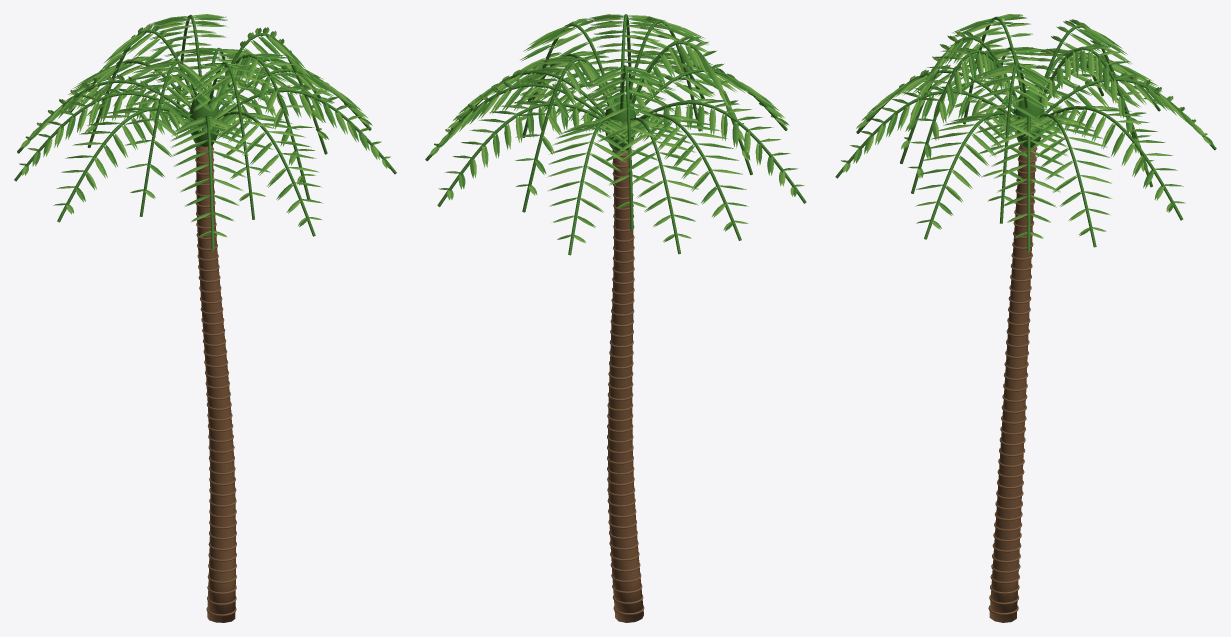
The model's file is palm.glb.
3 renders of one model, left to right at view 1: azimuth 30°, elevation 25°; view 2: azimuth 150°, elevation 25°; view 3: azimuth 270°, elevation 25°, orthographic. The views are drawn at different scales.
Parts seen in each view (by area): view 1: Palm trunk, Palm leaflets 2, Palm leaflets 0, Palm leaflets 1, Arching frond rachis; view 2: Palm trunk, Palm leaflets 2, Palm leaflets 1, Palm leaflets 0, Arching frond rachis; view 3: Palm trunk, Palm leaflets 1, Palm leaflets 2, Palm leaflets 0, Arching frond rachis.
Boxes of the visible parts, x1,y1,x2,y2 form: Palm trunk: (195, 145, 236, 622); Palm leaflets 2: (20, 14, 390, 237); Palm leaflets 0: (19, 17, 389, 237); Palm leaflets 1: (22, 15, 387, 236); Arching frond rachis: (14, 14, 396, 250); Palm trunk: (607, 150, 644, 622); Palm leaflets 2: (429, 15, 804, 243); Palm leaflets 1: (432, 14, 800, 241); Palm leaflets 0: (434, 15, 796, 242); Arching frond rachis: (425, 14, 806, 255); Palm trunk: (988, 144, 1037, 622); Palm leaflets 1: (845, 15, 1203, 237); Palm leaflets 2: (843, 14, 1210, 238); Palm leaflets 0: (841, 16, 1213, 238); Arching frond rachis: (835, 16, 1216, 252).
Size of the model in its own units: 5.39 by 8.88 by 5.33.
